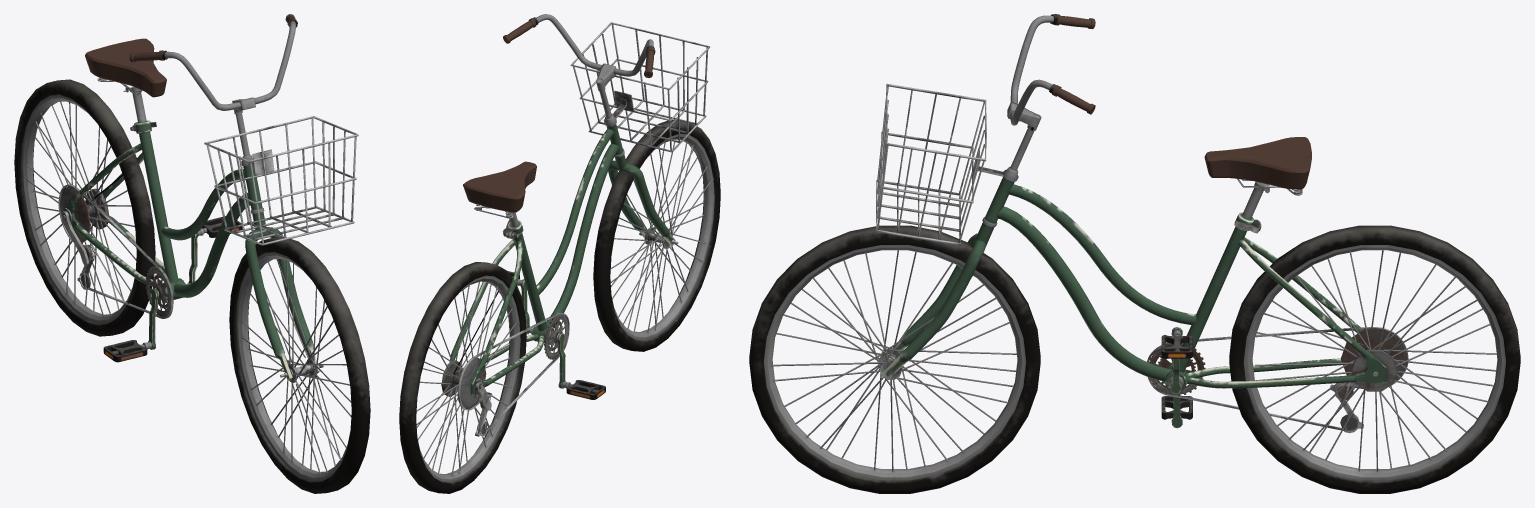
The model's file is bici-clasica.glb.
3 renders of one model, left to right at view 1: azimuth 30°, elevation 25°; view 2: azimuth 150°, elevation 25°; view 3: azimuth 270°, elevation 25°, orthographic. The views are drawn at different scales.
Parts seen in each view (by area): view 1: Object_4; view 2: Object_4; view 3: Object_4.
Part boxes in pixels (box(x1,y1,x2,y2)): Object_4: box(14, 14, 370, 493); Object_4: box(399, 14, 720, 493); Object_4: box(749, 14, 1520, 493).
Size of the model in its own units: 1.75 by 3.99 by 6.3.
1 material, 1 textured.
